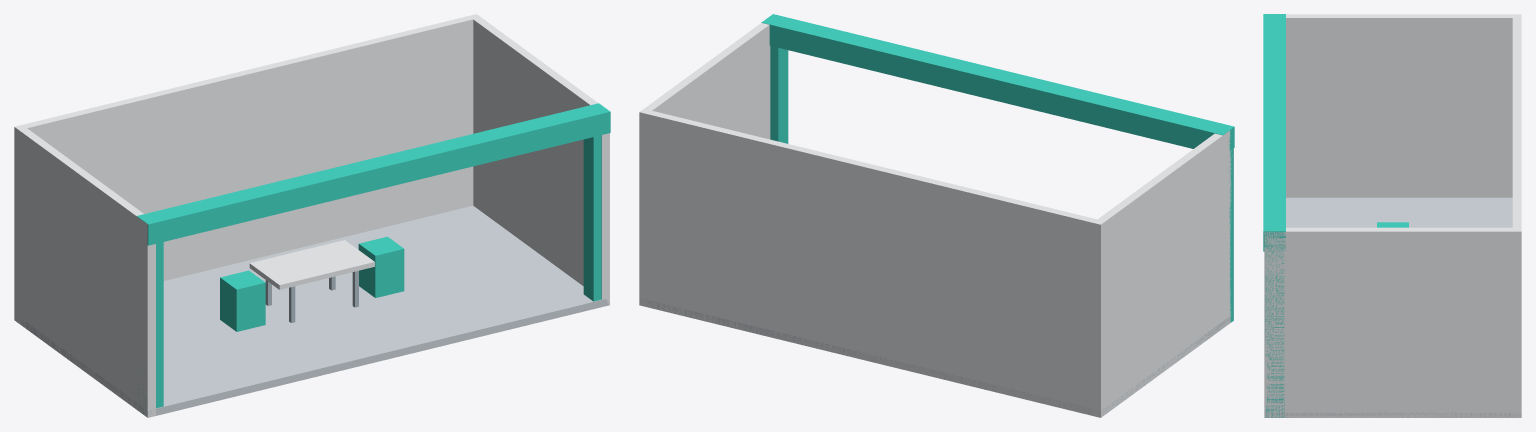
3 views of the same model, side by side, from view 1: azimuth 30°, elevation 25°; view 2: azimuth 150°, elevation 25°; view 3: azimuth 270°, elevation 25° (orthographic). The views are drawn at different scales.
Visible parts, largest first — view 1: Exhibition Booth Concept; view 2: Exhibition Booth Concept; view 3: Exhibition Booth Concept.
Boxes of the visible parts, left/top/right/bottom form: Exhibition Booth Concept: left=14, top=14, right=610, bottom=417; Exhibition Booth Concept: left=639, top=14, right=1234, bottom=417; Exhibition Booth Concept: left=1263, top=14, right=1521, bottom=417.
Bounding box in the file's own units: 8 × 3.2 × 4.02.
